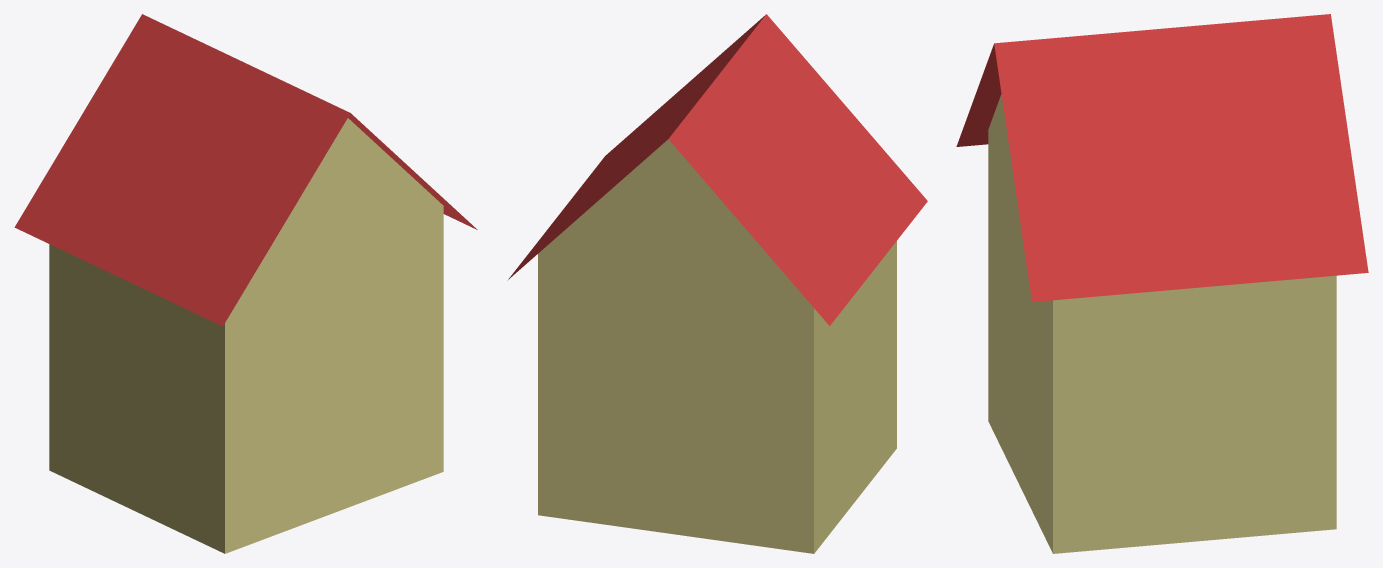
The picture shows the model from 3 angles, left to right: view 1: azimuth 30°, elevation 25°; view 2: azimuth 150°, elevation 25°; view 3: azimuth 270°, elevation 25°; orthographic projection. The views are drawn at different scales.
Visible parts, largest first — view 1: group_5, group_3, group_4; view 2: group_5, group_3, group_4; view 3: group_5, group_3, group_4.
Boxes of the visible parts, left/top/right/bottom form: group_5: left=49, top=118, right=443, bottom=553; group_3: left=15, top=14, right=477, bottom=325; group_4: left=14, top=105, right=424, bottom=326; group_5: left=538, top=139, right=896, bottom=553; group_3: left=539, top=15, right=896, bottom=325; group_4: left=507, top=14, right=927, bottom=325; group_5: left=988, top=94, right=1336, bottom=553; group_3: left=956, top=16, right=1368, bottom=301; group_4: left=994, top=14, right=1368, bottom=301.
Size of the model in its own units: 12.09 by 11.42 by 13.65.
